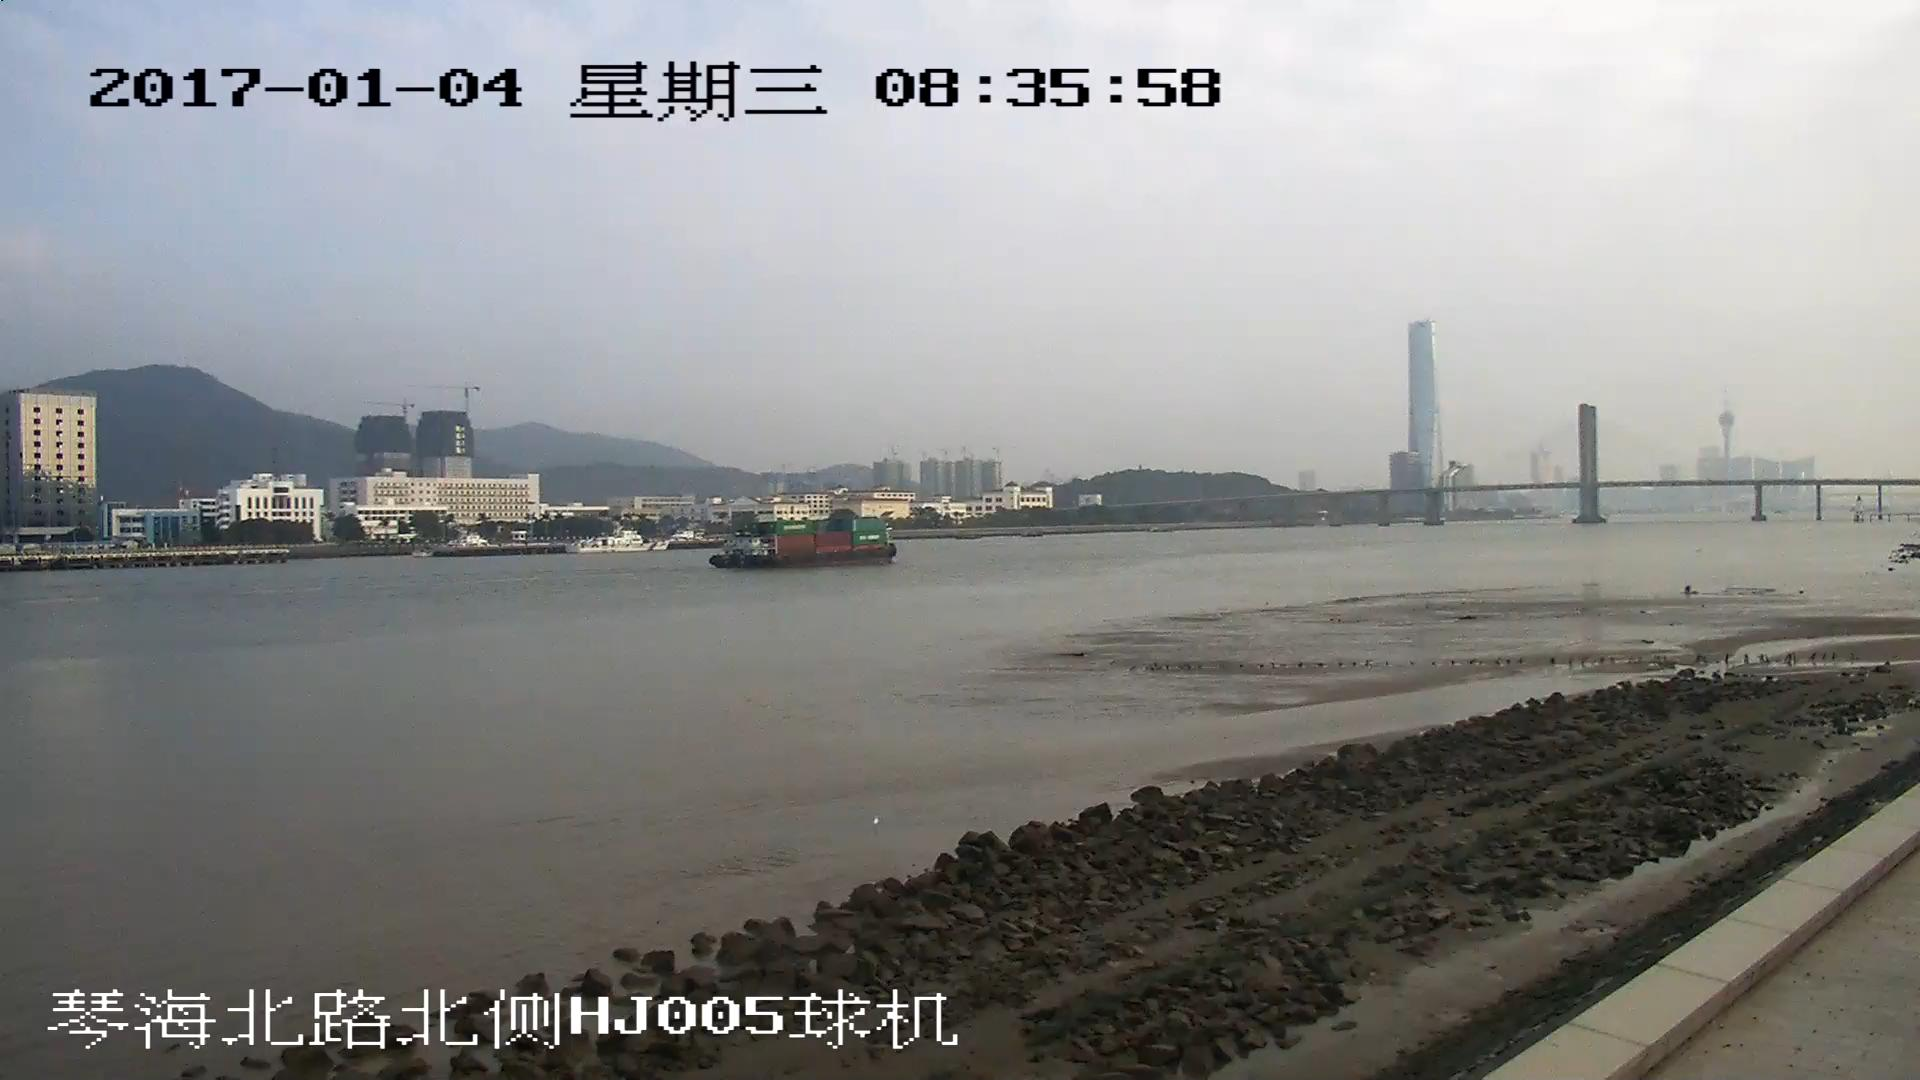container ship: (714, 521, 898, 570)
